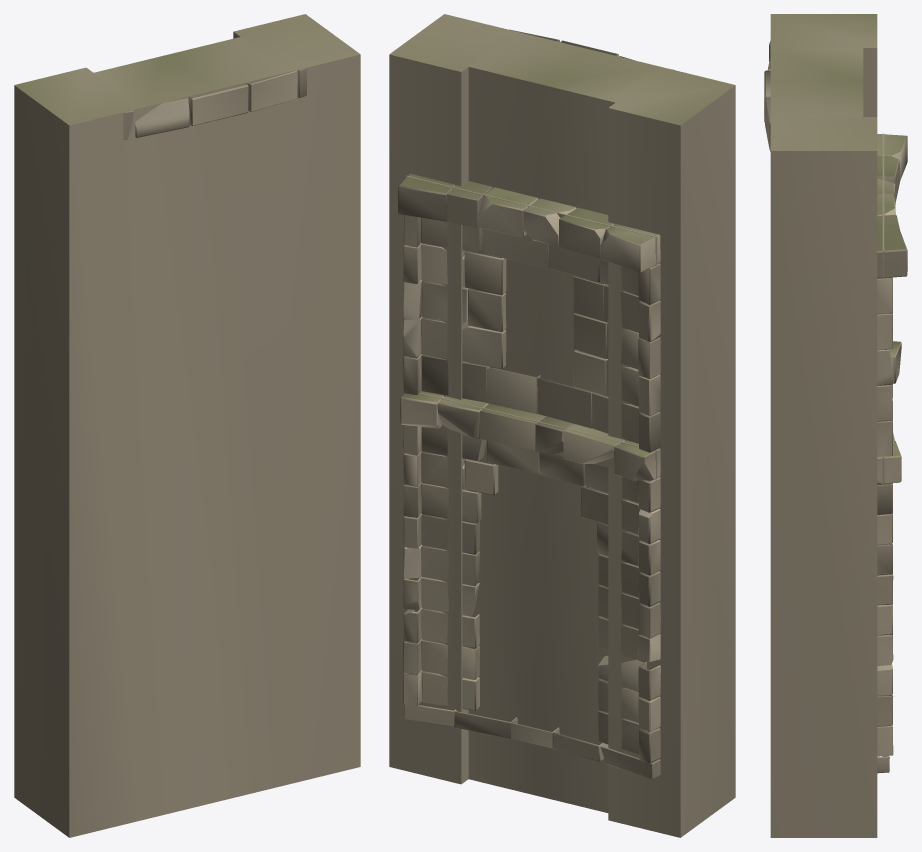
File: dome_drum.glb
The picture shows the model from 3 angles, left to right: view 1: azimuth 30°, elevation 25°; view 2: azimuth 150°, elevation 25°; view 3: azimuth 270°, elevation 25°; orthographic projection. The views are drawn at different scales.
Parts seen in each view (by area): view 1: dome_drum_far, dome_drum; view 2: dome_drum_far, dome_drum; view 3: dome_drum_far, dome_drum.
Boxes of the visible parts, x1,y1,x2,y2 form: dome_drum_far: (14,14,360,837); dome_drum: (123,68,307,139); dome_drum_far: (389,14,735,837); dome_drum: (398,29,673,779); dome_drum_far: (770,14,884,837); dome_drum: (764,41,907,773).
Size of the model in its own units: 21.4 by 50 by 9.45.
